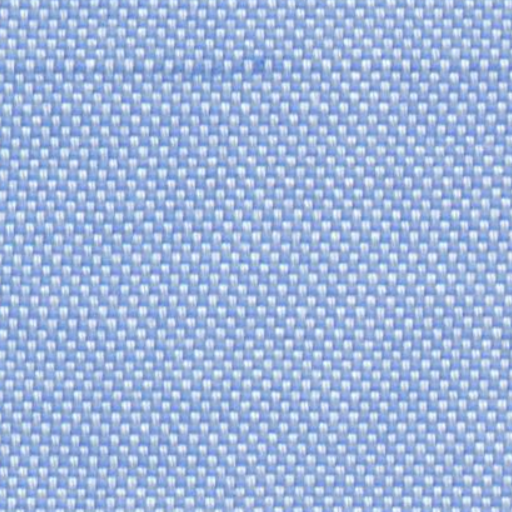DaiSha: (8, 50, 472, 82)
